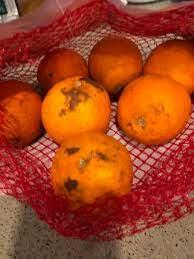Orange Rotten: (47, 127, 140, 209), (39, 72, 120, 144), (125, 66, 187, 147), (82, 29, 144, 98), (144, 33, 194, 102), (0, 79, 45, 141), (34, 48, 86, 91)
